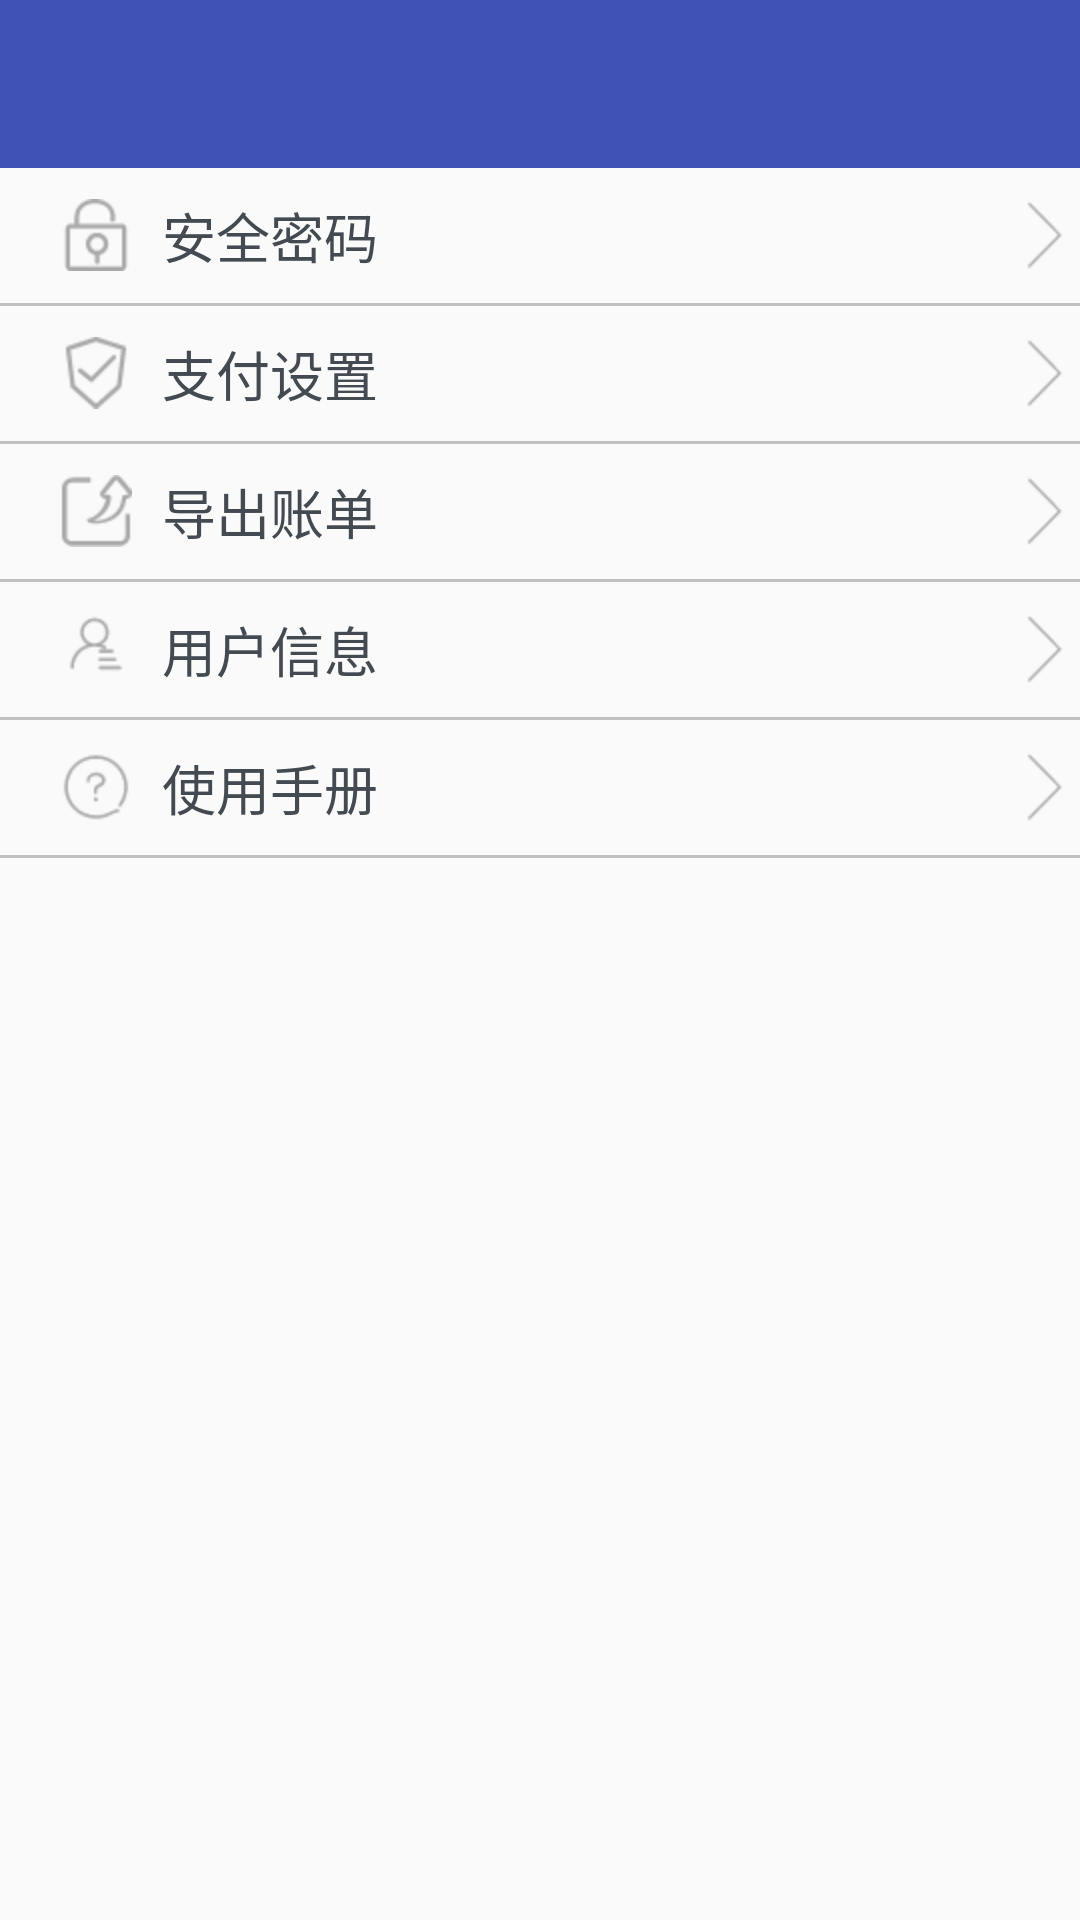

Point at icon controls on the screen. Image size 1080px×1920px, points as [x,y].
export: [97,511]
jiantou: [1044,235], [1044,373], [1044,511], [1044,649], [1044,787]
password: [96,235]
userinfo: [96,643]
